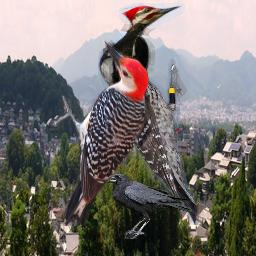Crow: (103, 173, 192, 239)
Woodpecker: (98, 31, 199, 225), (49, 39, 149, 226), (103, 3, 185, 133)
